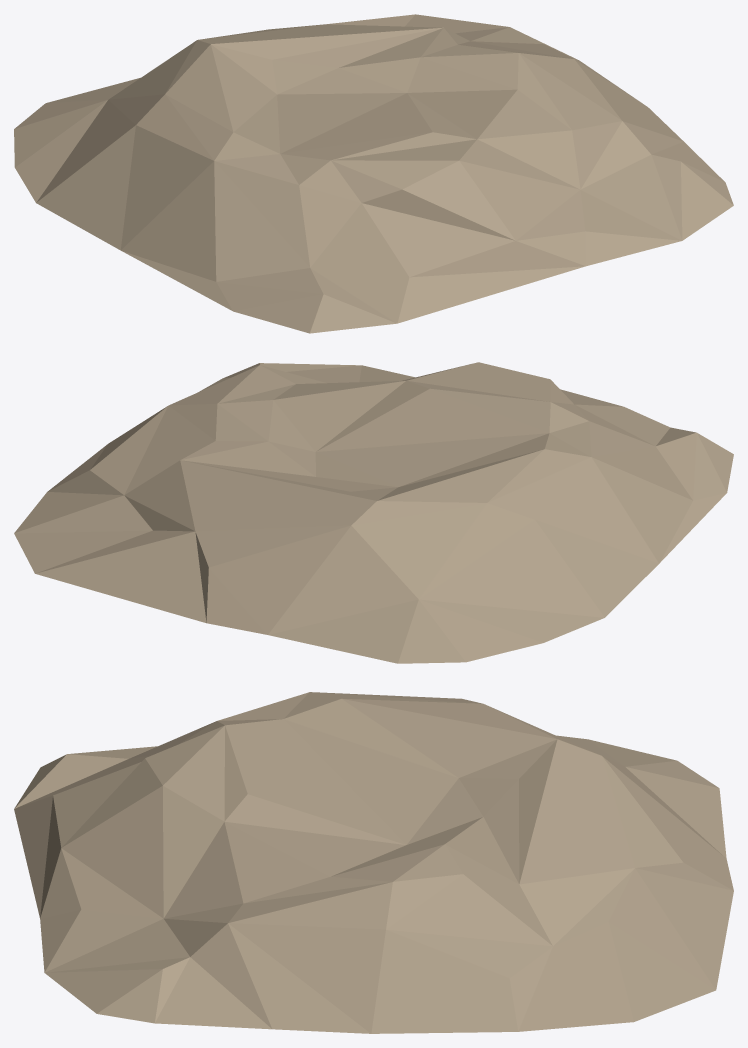
Rendered from SM_Env_GroundMound_Rough_03.FBX.
The picture shows the model from 3 angles, top to bottom: view 1: azimuth 30°, elevation 25°; view 2: azimuth 150°, elevation 25°; view 3: azimuth 270°, elevation 25°; orthographic projection. The views are drawn at different scales.
Parts seen in each view (by area): view 1: SM_Env_GroundMound_Rough_03; view 2: SM_Env_GroundMound_Rough_03; view 3: SM_Env_GroundMound_Rough_03.
Part boxes in pixels (<box>): SM_Env_GroundMound_Rough_03: <box>14,14,733,333</box>; SM_Env_GroundMound_Rough_03: <box>14,362,733,663</box>; SM_Env_GroundMound_Rough_03: <box>14,692,733,1033</box>.
Size of what is drawn, in the model's own units: 219 by 218 by 33.49.
